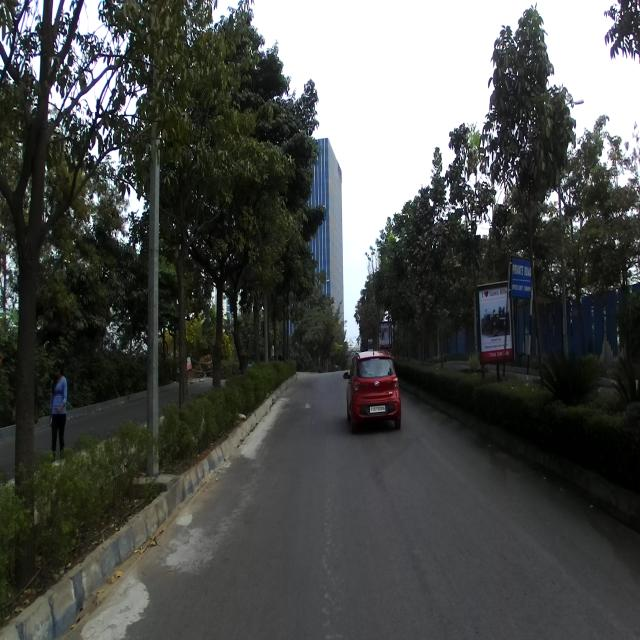car ahead at: (347, 348, 402, 431)
